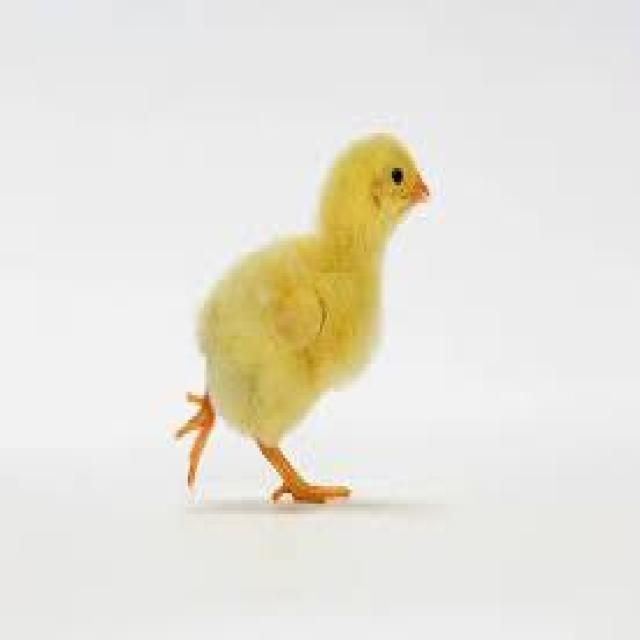poussin: (160, 130, 434, 528)
